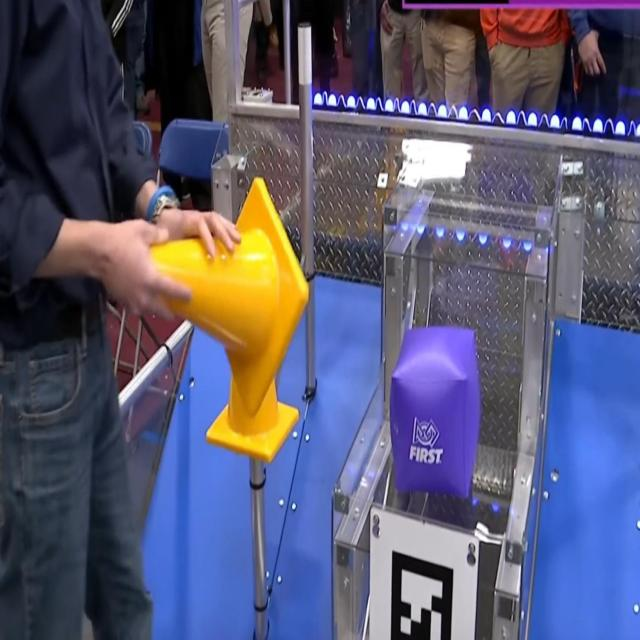frc_cone: (150, 180, 310, 422), (202, 376, 300, 464)
frc_cube: (391, 328, 482, 499)
